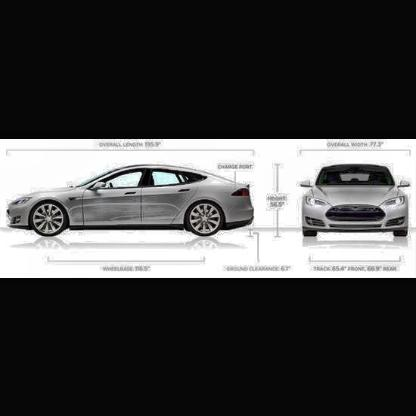Tesla Model S Sedan 2012: (9, 164, 258, 241)
